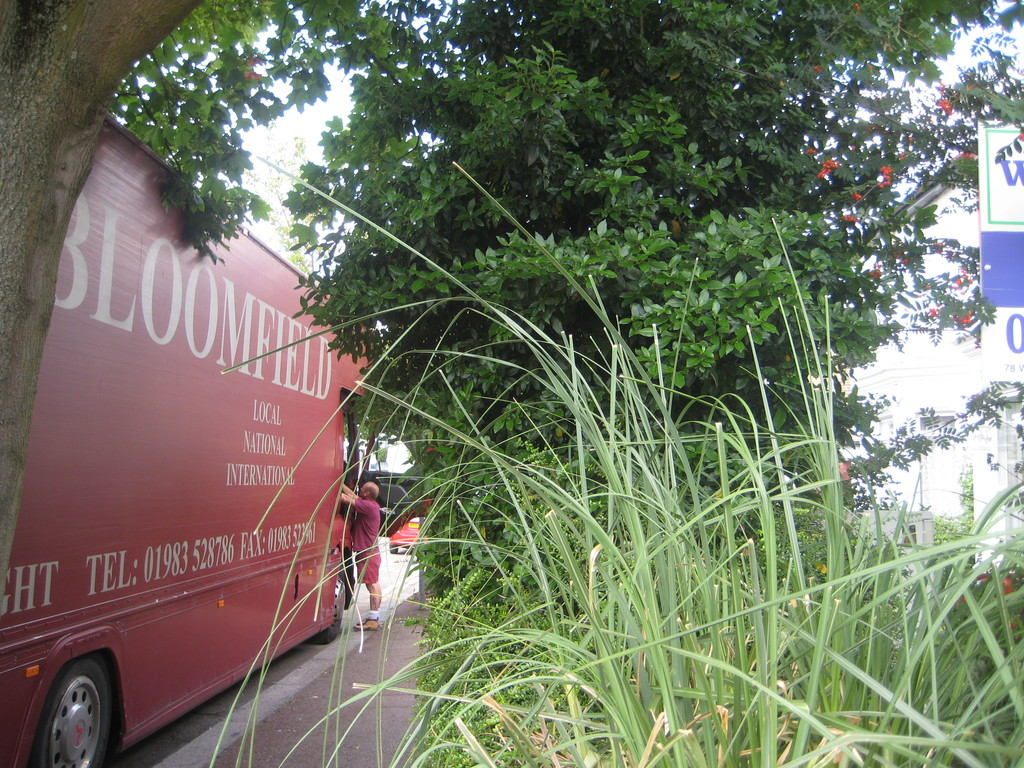Tree: (0, 0, 997, 592)
